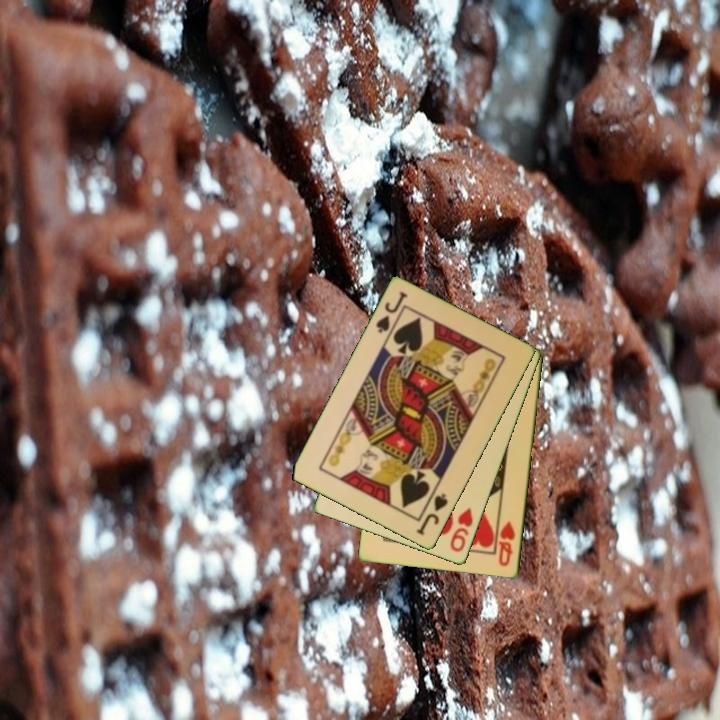9h: (447, 504, 476, 555)
Js: (413, 490, 451, 539), (372, 288, 410, 336)
Qh: (495, 518, 518, 569)
